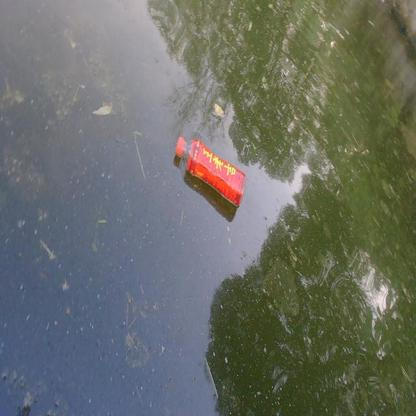plastic bottle: (174, 134, 245, 209)
